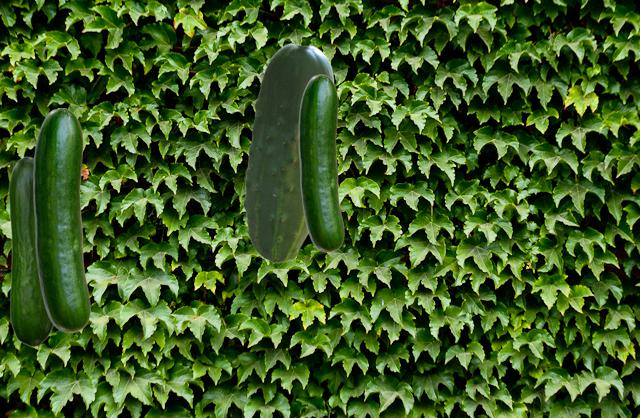cucumber: (243, 43, 333, 262), (33, 108, 89, 331), (8, 156, 53, 346), (298, 74, 343, 251)
